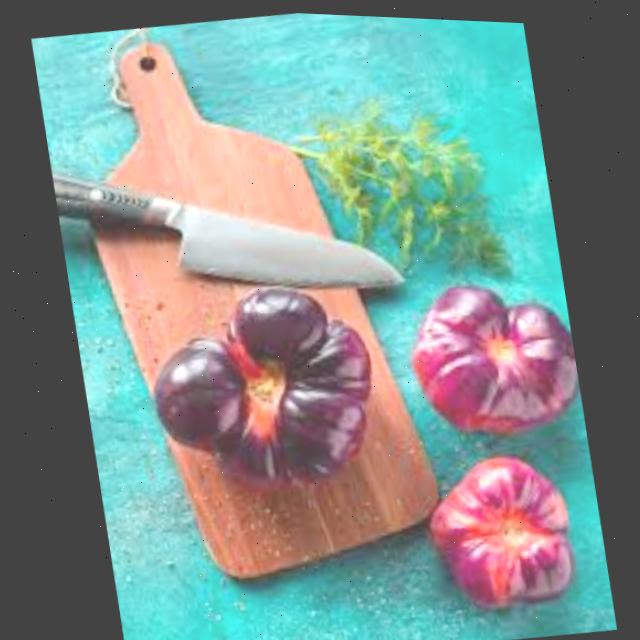Knife: (49, 107, 410, 329)
